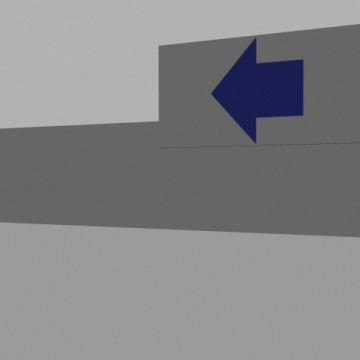blue_left: (212, 38, 303, 142)
